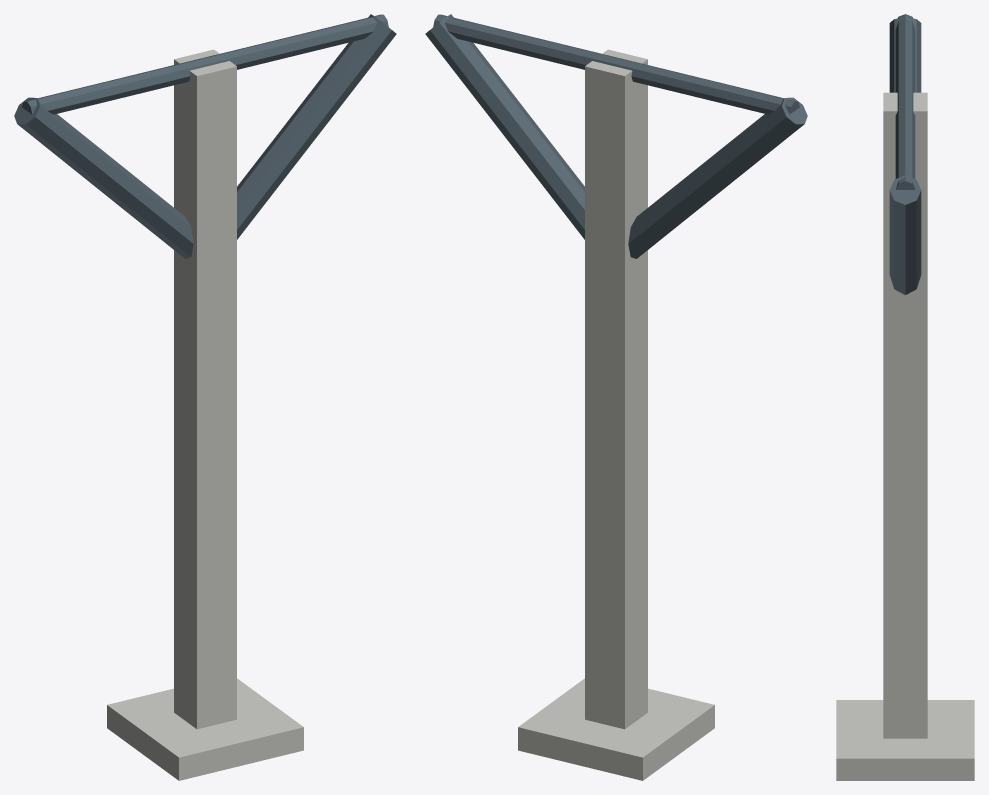
The model's file is american-football-stadium-kit-roof-pylon-aad44ec7__22361.glb.
3 views of the same model, side by side, from view 1: azimuth 30°, elevation 25°; view 2: azimuth 150°, elevation 25°; view 3: azimuth 270°, elevation 25° (orthographic). The views are drawn at different scales.
Visible parts, largest first — view 1: roof-pylon; view 2: roof-pylon; view 3: roof-pylon.
Boxes of the visible parts, box(x1,y1,x2,y2) form: roof-pylon: box(14, 14, 396, 780); roof-pylon: box(425, 14, 807, 780); roof-pylon: box(836, 14, 974, 780).
Size of the model in its own units: 4.23 by 7.31 by 1.4.
